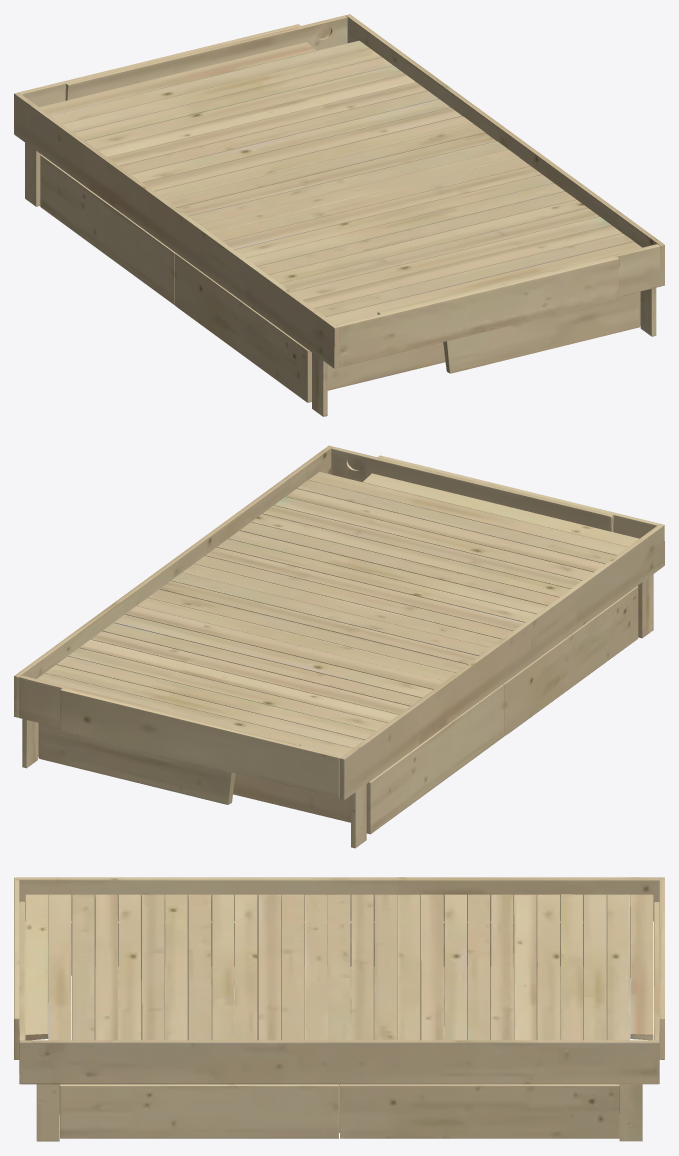
File: glamberget_rama_ozka_z_pojemnik_i_materacem_19568479.glb
3 views of the same model, one above another, from view 1: azimuth 30°, elevation 25°; view 2: azimuth 150°, elevation 25°; view 3: azimuth 270°, elevation 25° (orthographic).
Visible parts, largest first — view 1: glamberget_rama_ozka_z_pojemnik_i_materacem_19568479; view 2: glamberget_rama_ozka_z_pojemnik_i_materacem_19568479; view 3: glamberget_rama_ozka_z_pojemnik_i_materacem_19568479.
Boxes of the visible parts, <box> form: glamberget_rama_ozka_z_pojemnik_i_materacem_19568479: <box>14,14,664,416</box>; glamberget_rama_ozka_z_pojemnik_i_materacem_19568479: <box>14,445,664,848</box>; glamberget_rama_ozka_z_pojemnik_i_materacem_19568479: <box>14,877,664,1141</box>.
Size of the model in its own units: 1.25 by 0.3505 by 2.09.
Materials: 1 (1 with a texture image).
